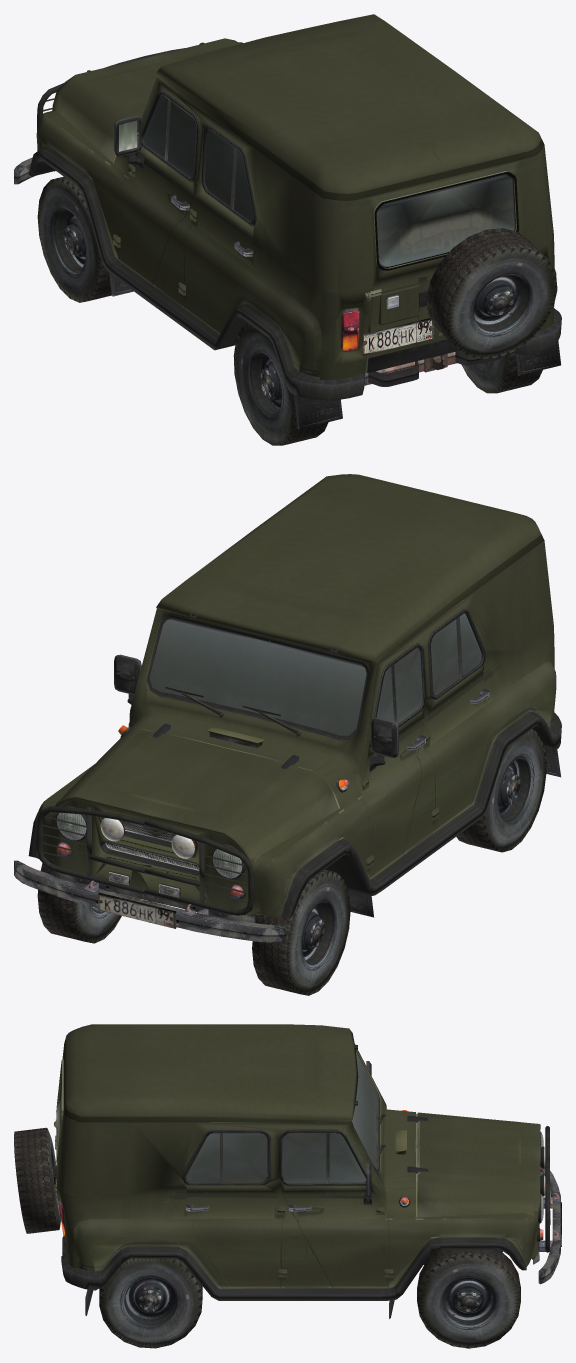
The model's file is UAZfbx.fbx.
The picture shows the model from 3 angles, top to bottom: view 1: azimuth 30°, elevation 25°; view 2: azimuth 150°, elevation 25°; view 3: azimuth 270°, elevation 25°; orthographic projection. The views are drawn at different scales.
Visible parts, largest first — view 1: Плоскость, Плоскость.008, Плоскость.003, Плоскость.009, Плоскость.004; view 2: Плоскость, Плоскость.009; view 3: Плоскость, Плоскость.008.
Boxes of the visible parts, x1=… form: Плоскость: x1=14, y1=14, x2=561, y2=445; Плоскость.008: x1=426, y1=228, x2=557, y2=359; Плоскость.003: x1=368, y1=273, x2=446, y2=358; Плоскость.009: x1=362, y1=318, x2=433, y2=355; Плоскость.004: x1=378, y1=285, x2=428, y2=325; Плоскость: x1=14, y1=474, x2=561, y2=995; Плоскость.009: x1=98, y1=892, x2=176, y2=928; Плоскость: x1=54, y1=1024, x2=560, y2=1348; Плоскость.008: x1=14, y1=1127, x2=60, y2=1233.
Bounding box in the file's own units: 2.61 × 2.59 × 5.4.
